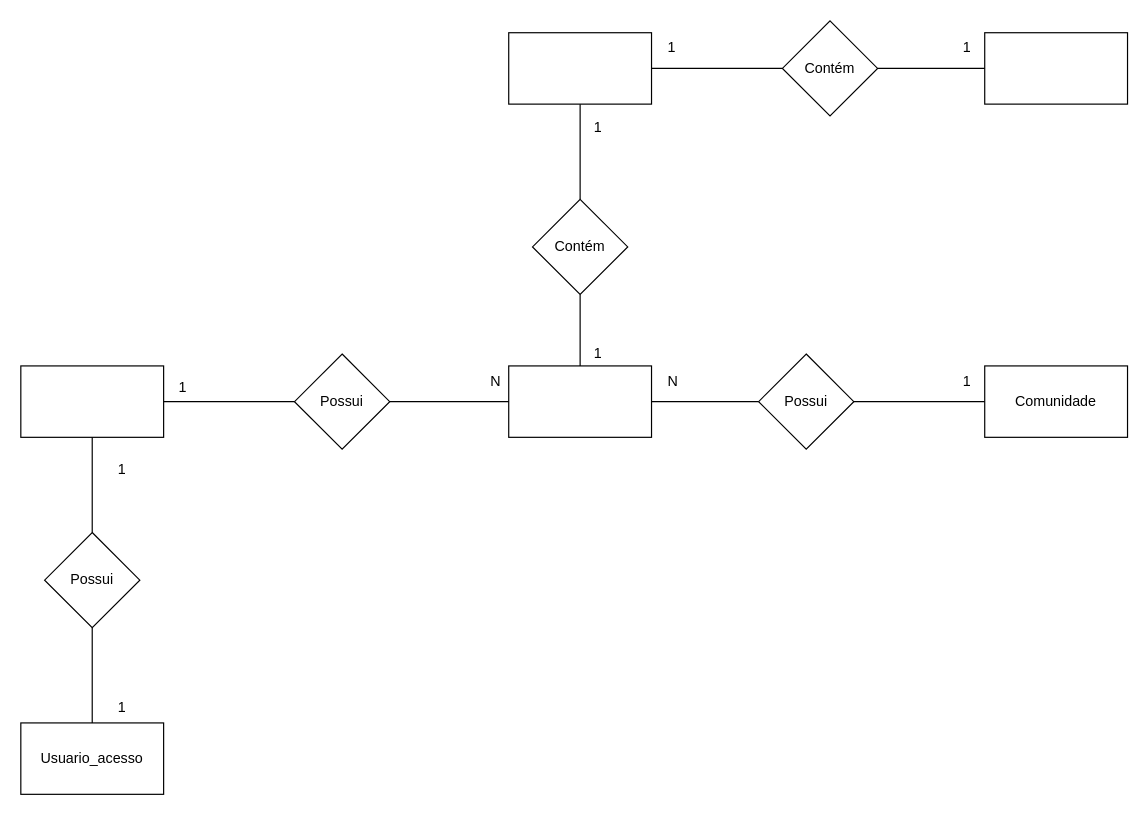
This 1148x815 diagram has some shape labels left out. The box of each missing label's shape, as (x1, y1, x2, y2) in pixels:
Categoria: (984, 32, 1128, 104)
Comunidade_Usuario: (508, 365, 652, 437)
Evento: (508, 32, 652, 104)
Usuario: (20, 365, 164, 437)
